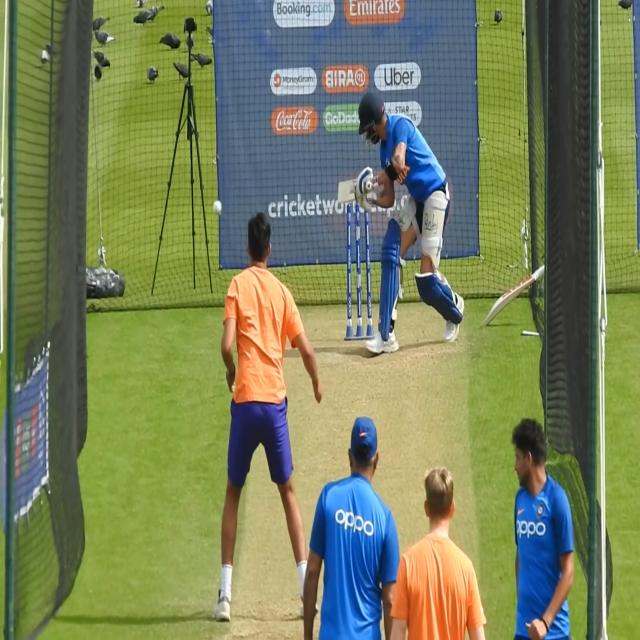ball: (211, 198, 224, 218)
stump: (345, 205, 373, 339)
